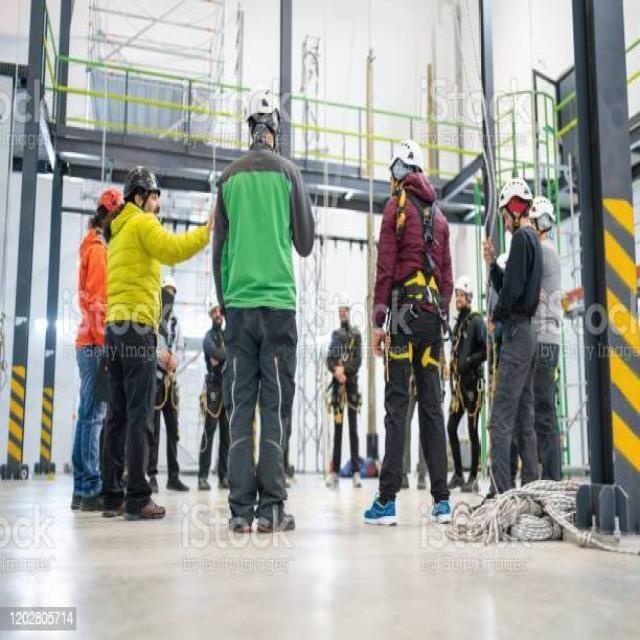Arnes_seguridad: (377, 179, 447, 379), (447, 307, 487, 423), (325, 326, 364, 412), (154, 312, 187, 410), (203, 328, 235, 418)
